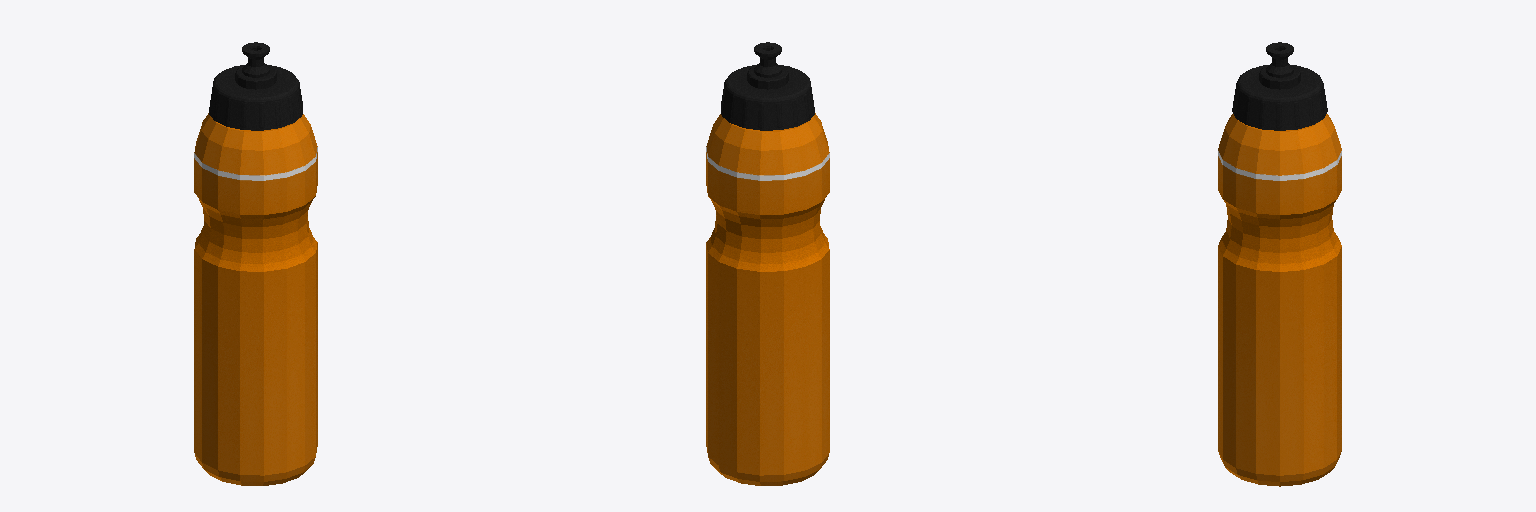
3 renders of one model, left to right at view 1: azimuth 30°, elevation 25°; view 2: azimuth 150°, elevation 25°; view 3: azimuth 270°, elevation 25°, orthographic.
Parts seen in each view (by area): view 1: Sport_Bottle; view 2: Sport_Bottle; view 3: Sport_Bottle.
Boxes of the visible parts, <box> form: Sport_Bottle: <box>194,42,317,485</box>; Sport_Bottle: <box>706,42,829,485</box>; Sport_Bottle: <box>1218,42,1341,486</box>.
Size of the model in its own units: 2.62 by 9.67 by 2.62.
Materials: 1 (1 with a texture image).